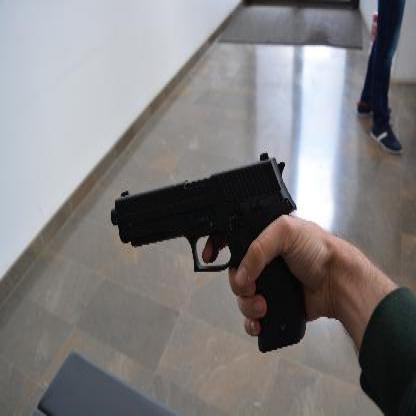pistol: (110, 151, 306, 352)
